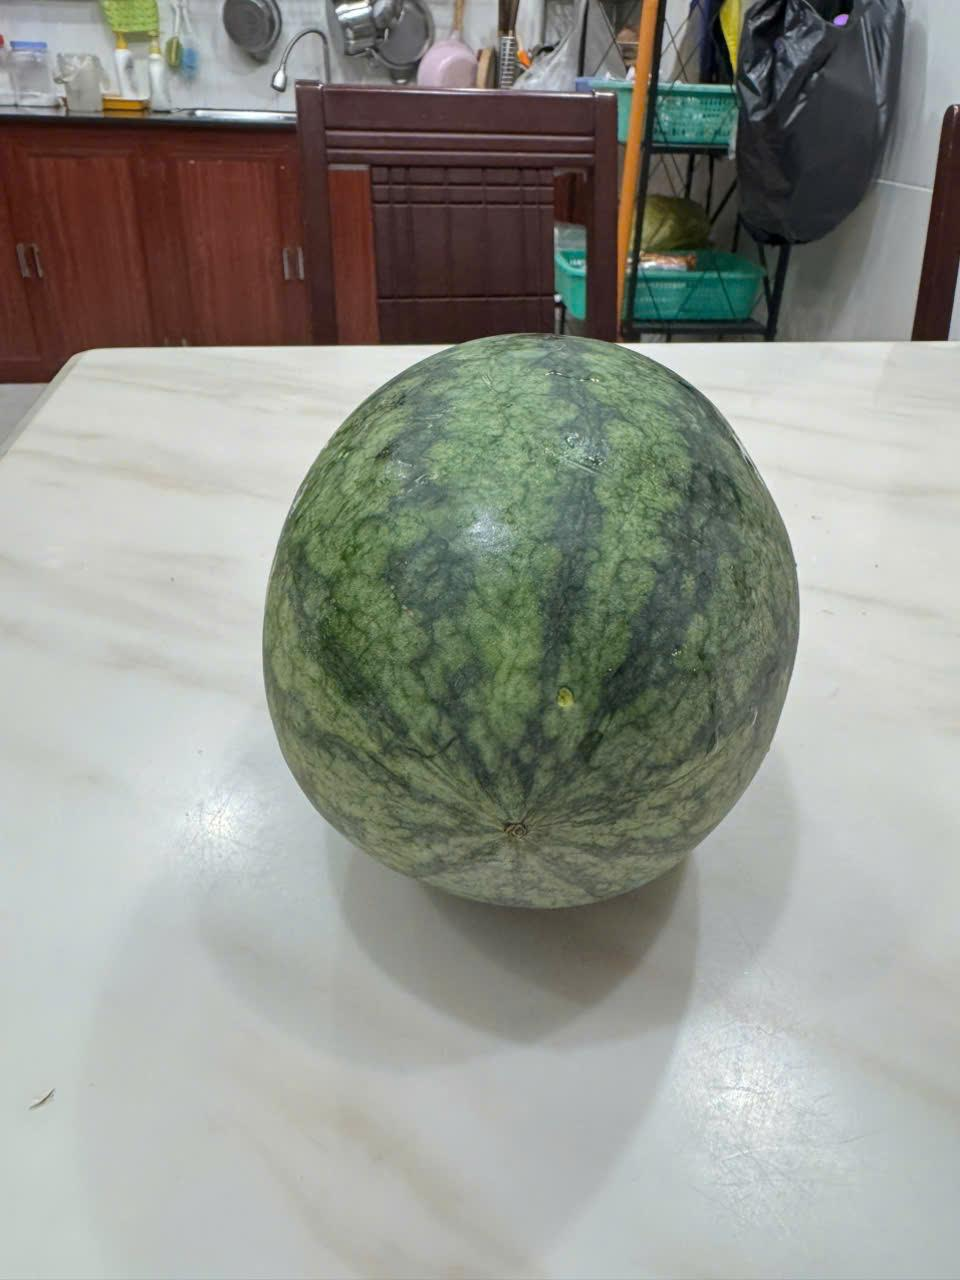watermelon: (240, 310, 818, 926)
